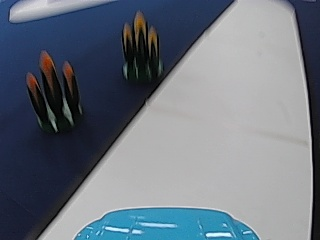corn: (27, 50, 85, 134), (121, 9, 161, 84)
